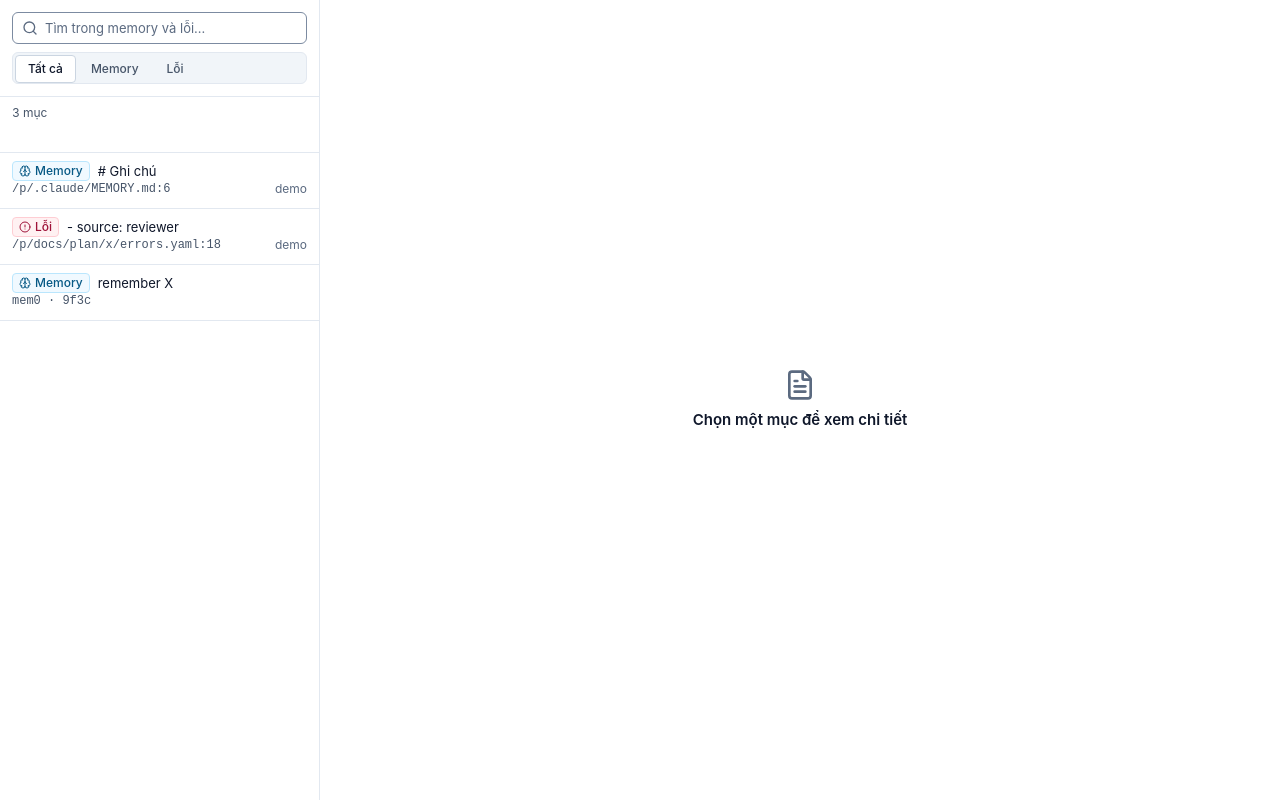
<MemoryTab /> › the detail shows the kind, the project, the source and Mở file, and its markdown starts at level 2
This screenshot has width=1280, height=800.
Click the text "/p/.claude/MEMORY.md:6" at (91, 189), box [12, 182, 170, 196]
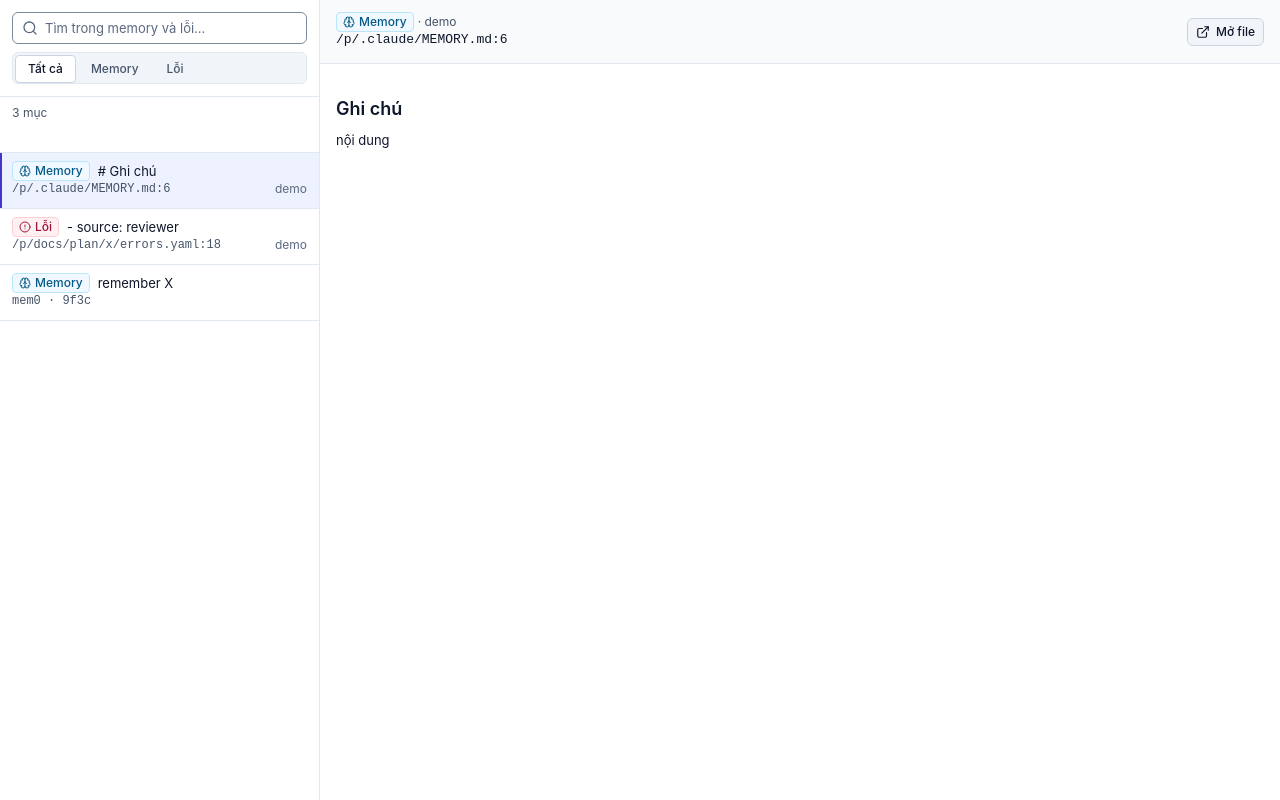
Expected: the text "Memory" next to "· demo" is shown, [359, 14, 407, 28]
Expected: the text "· demo" is shown, [418, 14, 456, 30]
Expected: the button "Mở file" is shown, [1187, 18, 1264, 46]
